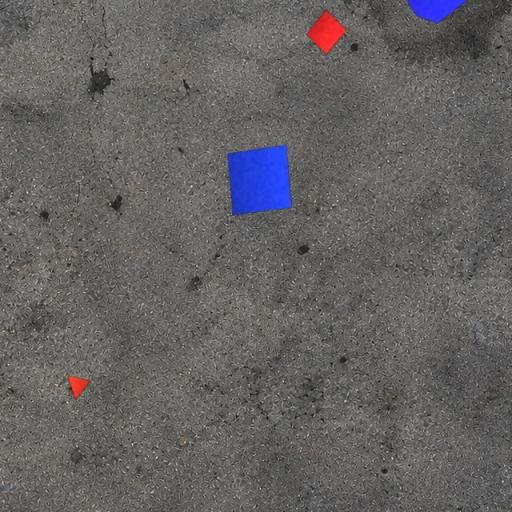BLUE_SQUARE: (226, 144, 292, 215)
RED_SQUARE: (306, 9, 348, 55)
